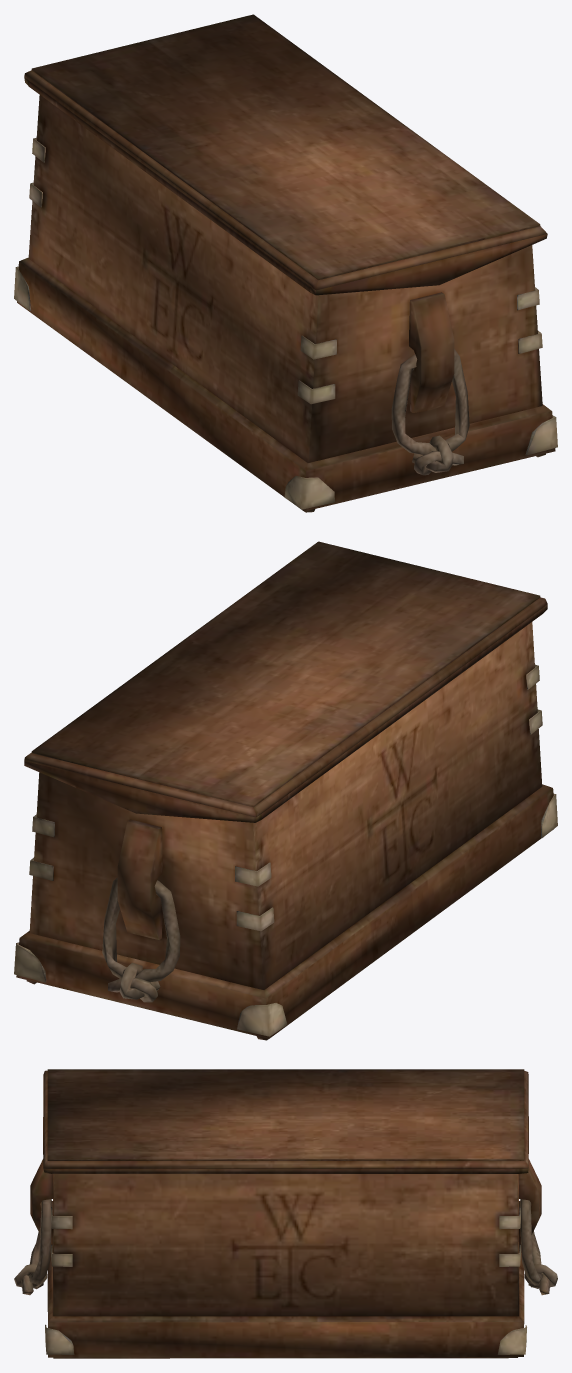
File: wooden_crate_02.glb
3 renders of one model, top to bottom at view 1: azimuth 30°, elevation 25°; view 2: azimuth 150°, elevation 25°; view 3: azimuth 270°, elevation 25°, orthographic. The views are drawn at different scales.
Visible parts, largest first — view 1: wooden_crate_02_crate; view 2: wooden_crate_02_crate; view 3: wooden_crate_02_crate.
Part boxes in pixels (x1,y1,x2,y2): wooden_crate_02_crate: [14, 14, 557, 512]; wooden_crate_02_crate: [14, 541, 557, 1040]; wooden_crate_02_crate: [14, 1069, 557, 1358].
Bounding box in the file's own units: 0.5292 × 0.4628 × 1.16.
1 material, 1 textured.
